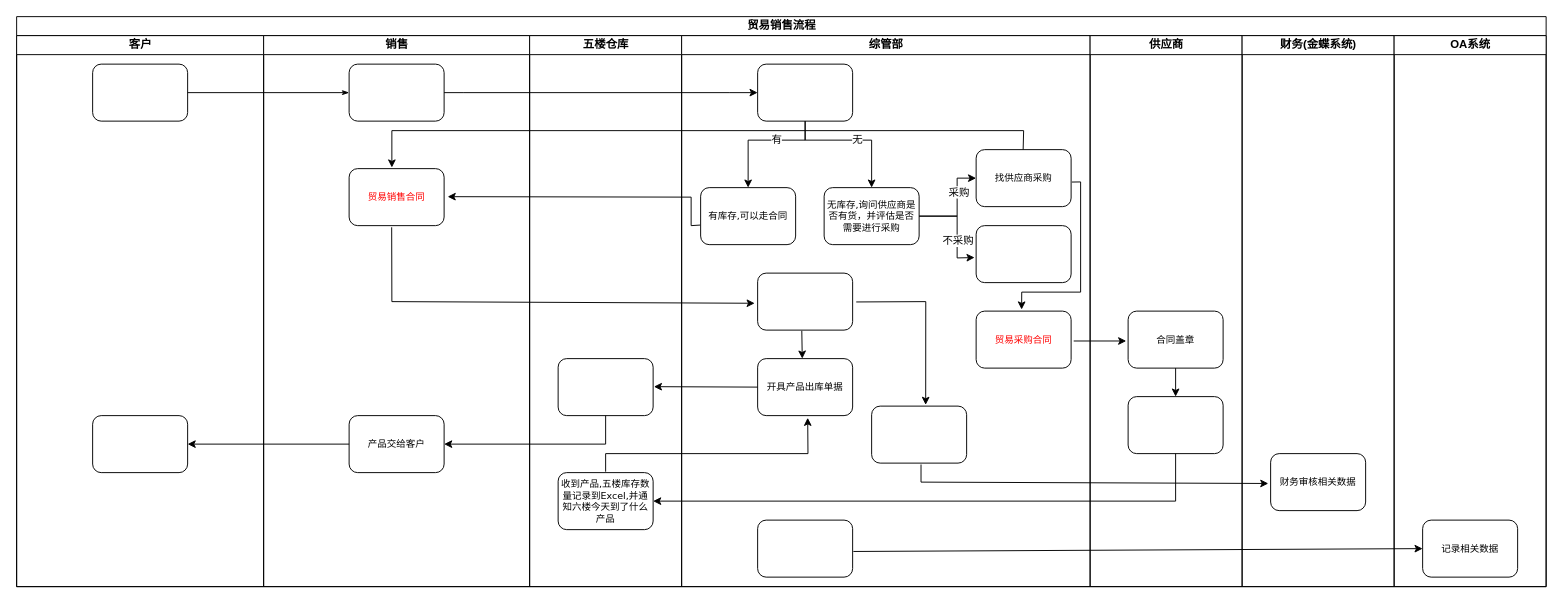
The diagram is 1563 pixels wide and 603 high, and some of its shapes have lost their labels. Here are the shapes that lost their labels. From the top down, the centre of each, then its label:
At pixel 140 92: "纯产品贸易需求".
At pixel 396 92: "了解初步需求后,和综管确认是否有库存".
At pixel 805 92: "查询产品库存".
At pixel 1023 254: "不采购,流程结束".
At pixel 805 301: "合同归档".
At pixel 605 387: "产品出库".
At pixel 140 444: "收到产品".
At pixel 919 434: "录入合同信息、采购入库、销售出库数据到金蝶系统".
At pixel 1175 425: "产品出货".
At pixel 805 548: "合同数据、采购数据等录入OA系统".
